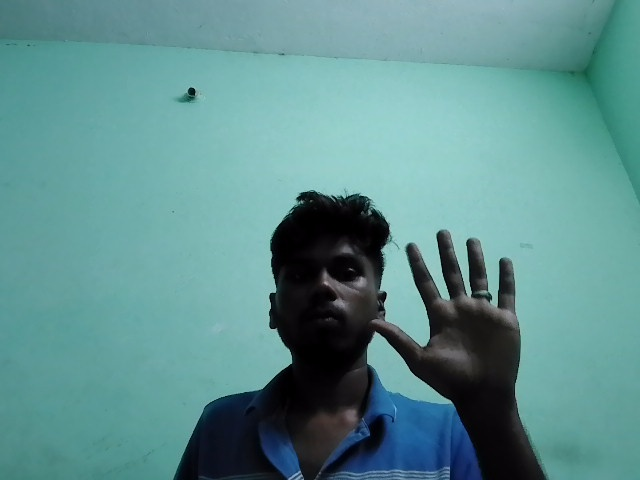Hello: (366, 224, 564, 409)
